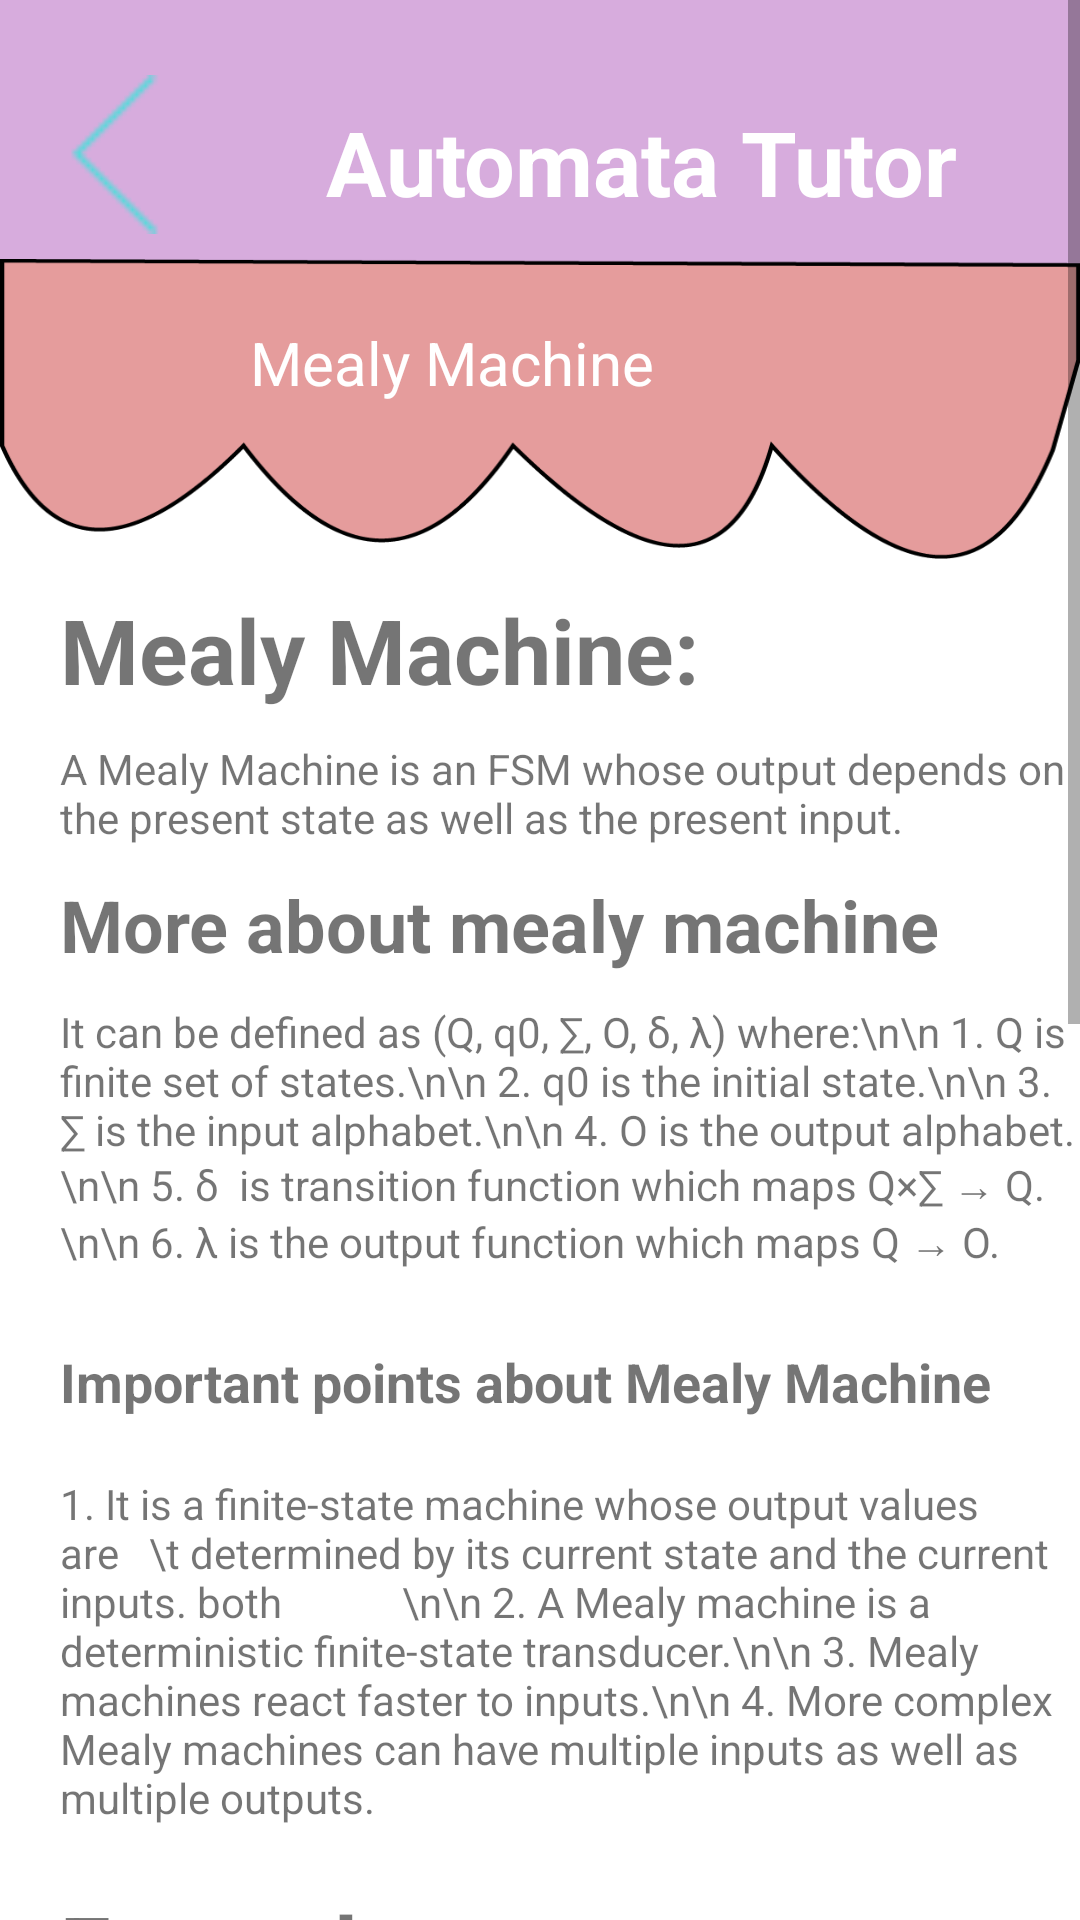

Where to tap for icons on this 1080 x 1920 app screen, as point (x, y):
backiconimg: point (115, 154)
